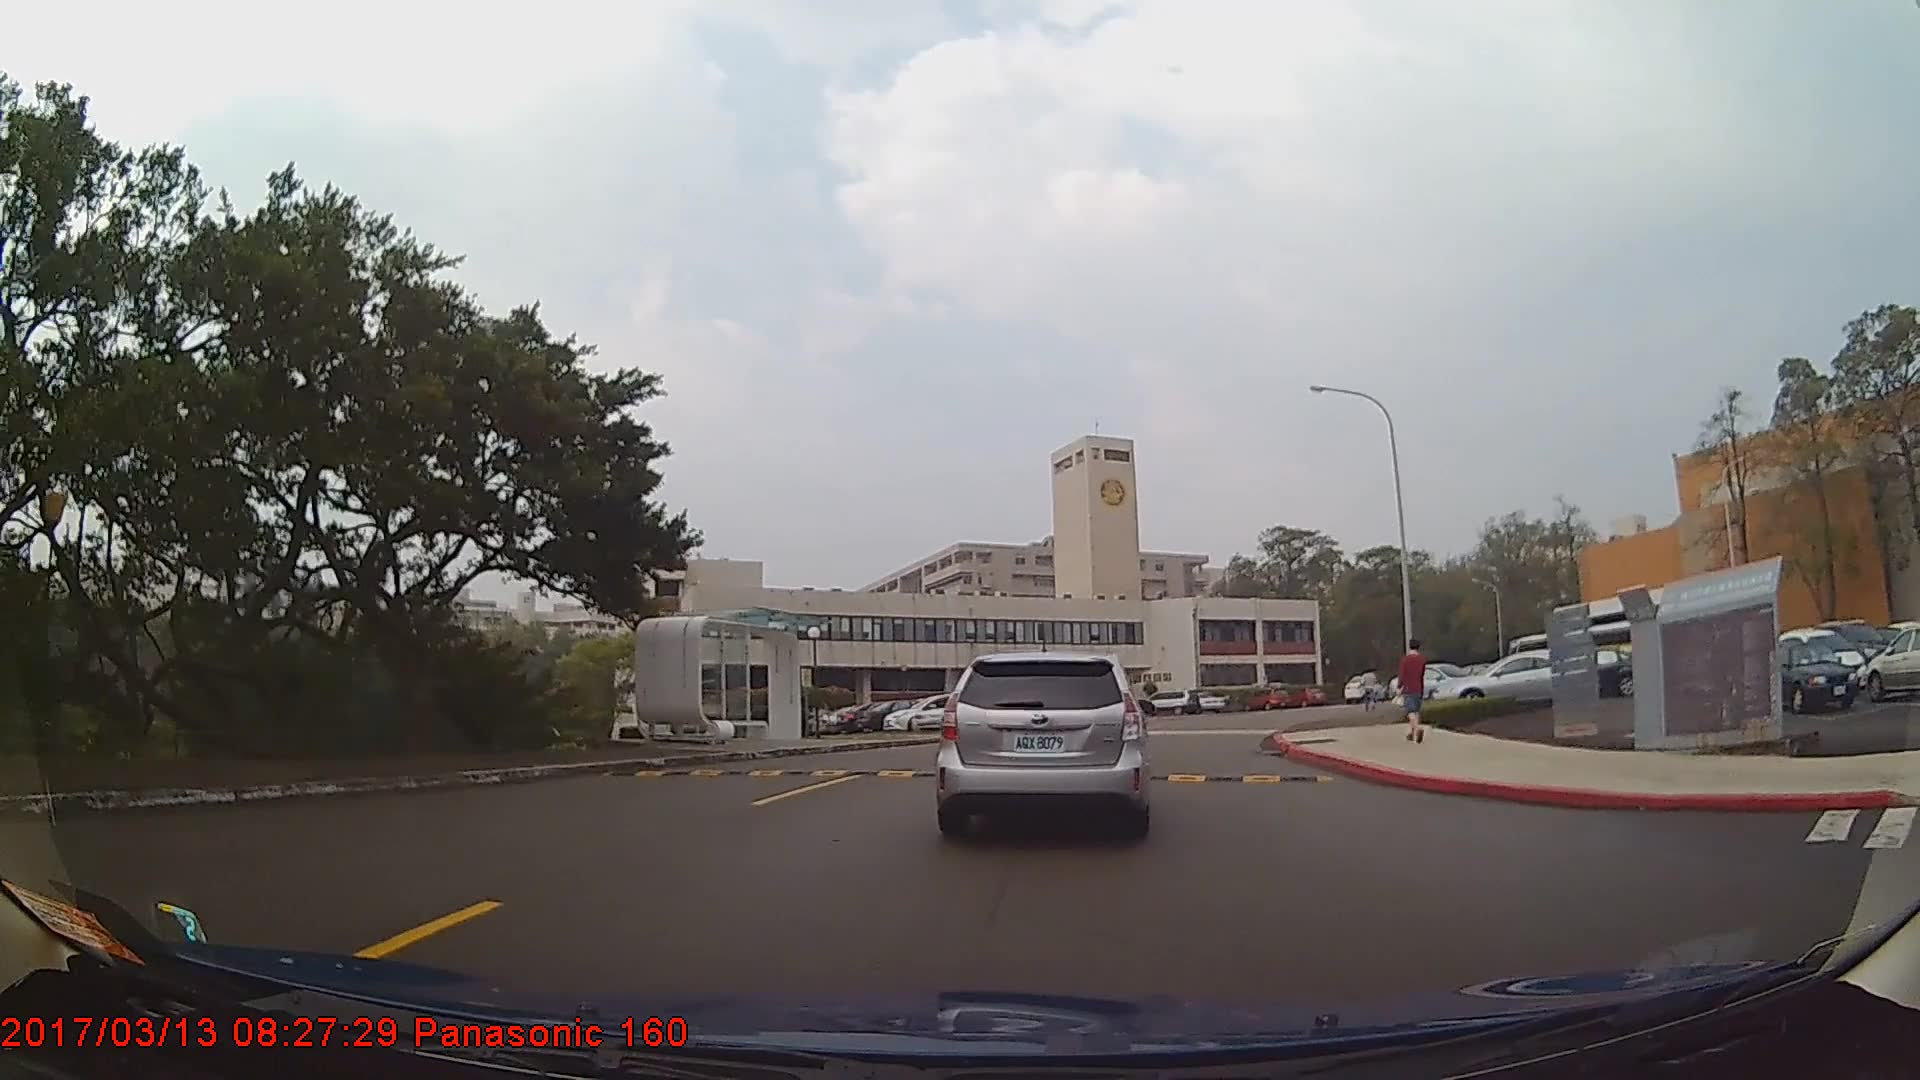pedestrian: (1398, 644, 1430, 750), (1359, 664, 1384, 714)
vehicle: (935, 651, 1143, 838), (1428, 651, 1600, 711), (1758, 641, 1858, 714), (1862, 626, 1920, 702), (1141, 690, 1202, 717), (1342, 674, 1382, 706)
